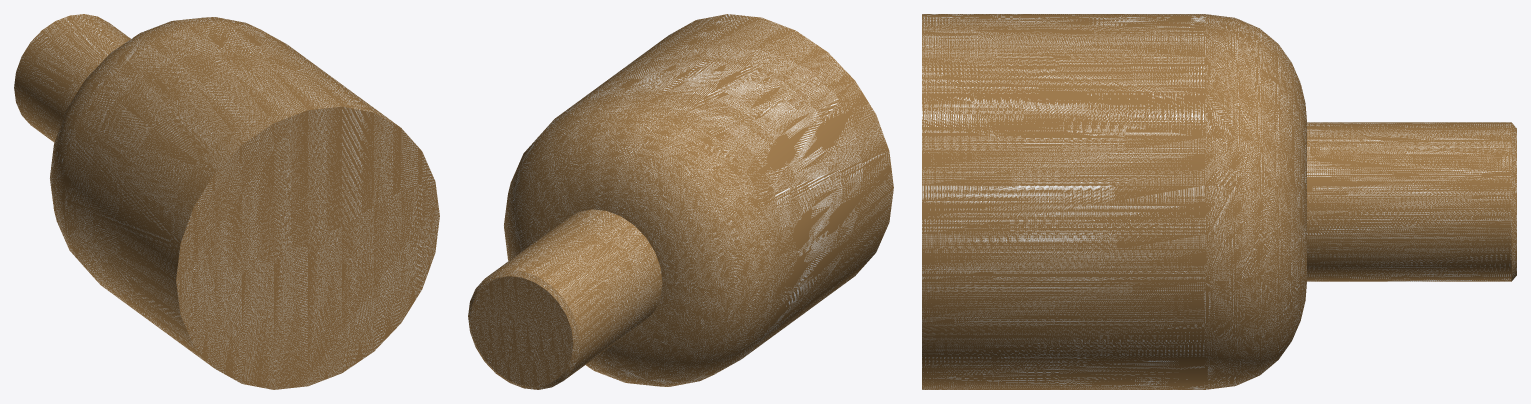
Rendered from original-3.obj.
3 renders of one model, left to right at view 1: azimuth 30°, elevation 25°; view 2: azimuth 150°, elevation 25°; view 3: azimuth 270°, elevation 25°, orthographic. The views are drawn at different scales.
Visible parts, largest first — view 1: mesh2/mesh2-geometry#mesh2-geometry; view 2: mesh2/mesh2-geometry#mesh2-geometry; view 3: mesh2/mesh2-geometry#mesh2-geometry.
Boxes of the visible parts, bbox=[...] form: mesh2/mesh2-geometry#mesh2-geometry: bbox=[14, 14, 439, 389]; mesh2/mesh2-geometry#mesh2-geometry: bbox=[468, 14, 893, 389]; mesh2/mesh2-geometry#mesh2-geometry: bbox=[922, 14, 1516, 389].
Bounding box in the file's own units: 0.0616 × 0.0616 × 0.097.
